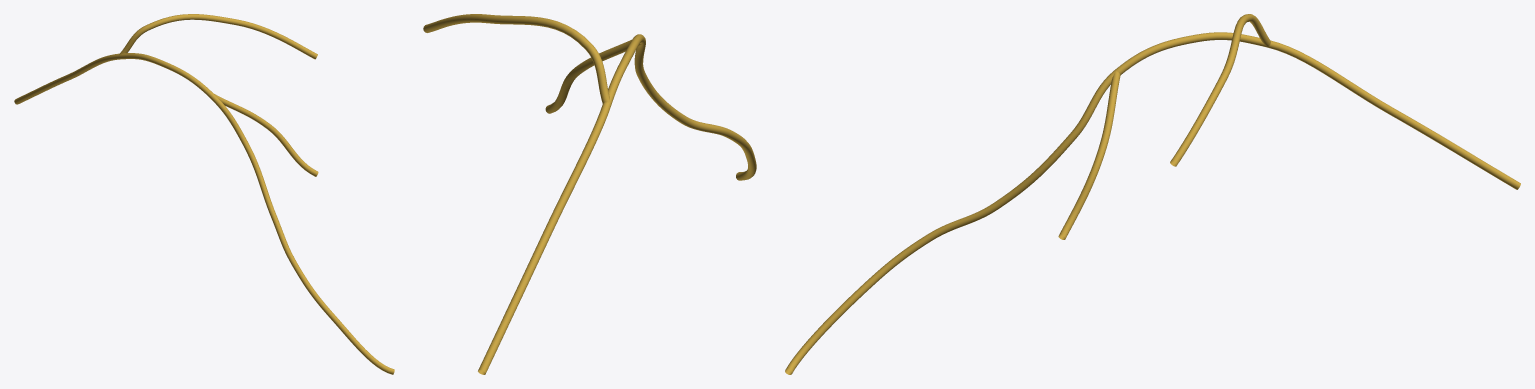
The picture shows the model from 3 angles, left to right: view 1: azimuth 30°, elevation 25°; view 2: azimuth 150°, elevation 25°; view 3: azimuth 270°, elevation 25°; orthographic projection. The views are drawn at different scales.
Parts seen in each view (by area): view 1: 右侧股后皮神经后根; view 2: 右侧股后皮神经后根; view 3: 右侧股后皮神经后根.
Part boxes in pixels (x1=…): 右侧股后皮神经后根: x1=14, y1=14, x2=394, y2=374; 右侧股后皮神经后根: x1=423, y1=14, x2=756, y2=374; 右侧股后皮神经后根: x1=785, y1=14, x2=1520, y2=374.
Size of the model in its own units: 0.0492 by 0.0667 by 0.1377.
